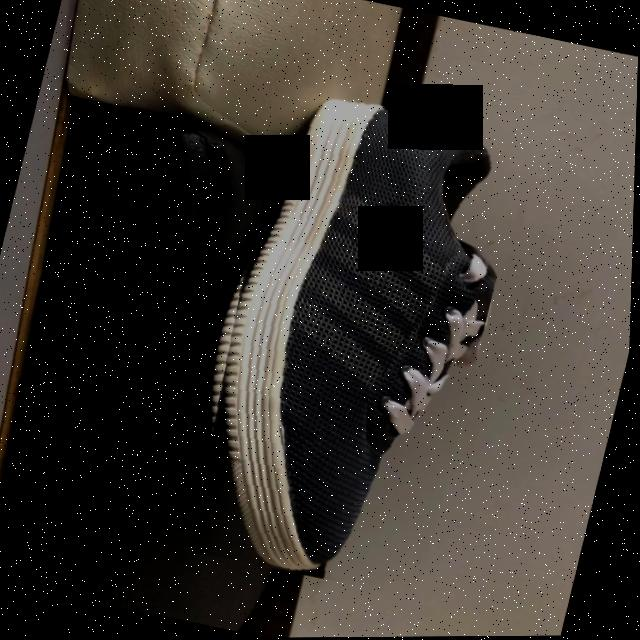shoe: (229, 101, 498, 573)
